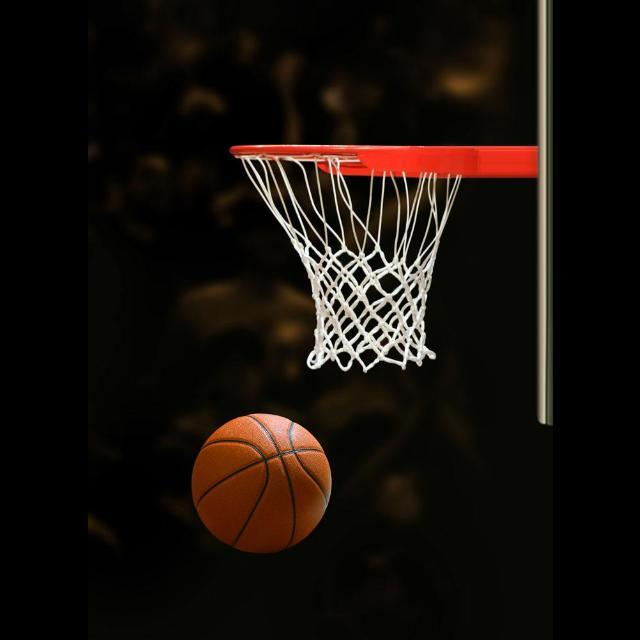basketball: (195, 413, 331, 552)
rim: (229, 144, 475, 368)
